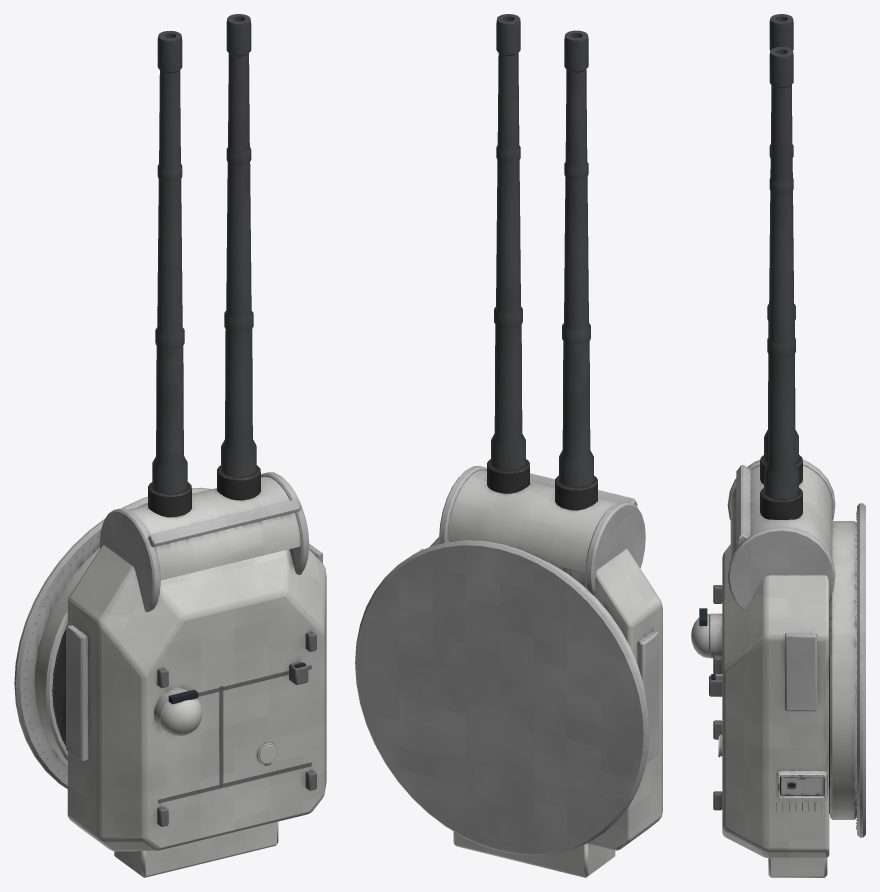
Rendered from turret-L.glb.
The picture shows the model from 3 angles, left to right: view 1: azimuth 30°, elevation 25°; view 2: azimuth 150°, elevation 25°; view 3: azimuth 270°, elevation 25°; orthographic projection. The views are drawn at different scales.
Parts seen in each view (by area): view 1: turret-L; view 2: turret-L; view 3: turret-L.
Part boxes in pixels (x1,y1,x2,y2): turret-L: [14, 14, 326, 877]; turret-L: [355, 14, 662, 877]; turret-L: [691, 14, 865, 877].
Bounding box in the file's own units: 15.68 × 42.04 × 8.19.
Materials: 1 (1 with a texture image).
